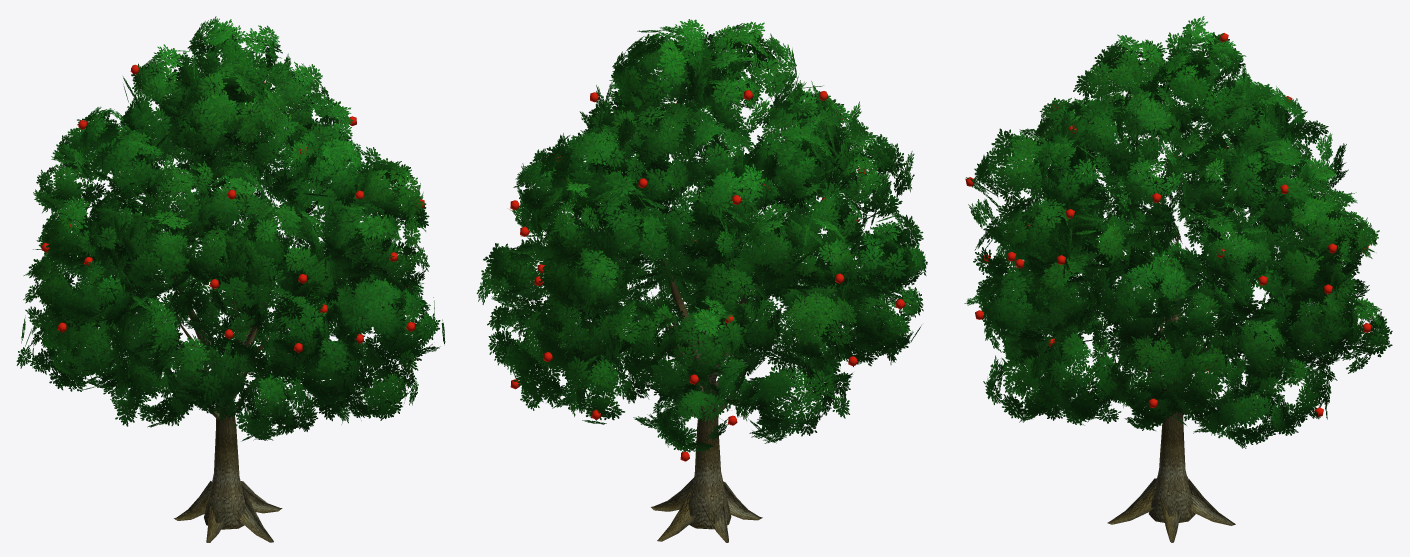
File: mm6_deco_tree06a.glb
3 renders of one model, left to right at view 1: azimuth 30°, elevation 25°; view 2: azimuth 150°, elevation 25°; view 3: azimuth 270°, elevation 25°, orthographic. The views are drawn at different scales.
Visible parts, largest first — view 1: Tree; view 2: Tree; view 3: Tree.
Part boxes in pixels (<box>): Tree: <box>16,16,445,542</box>; Tree: <box>476,19,927,542</box>; Tree: <box>964,16,1392,542</box>.
Bounding box in the file's own units: 5.87 × 7.12 × 5.73.
3 materials, 3 textured.
